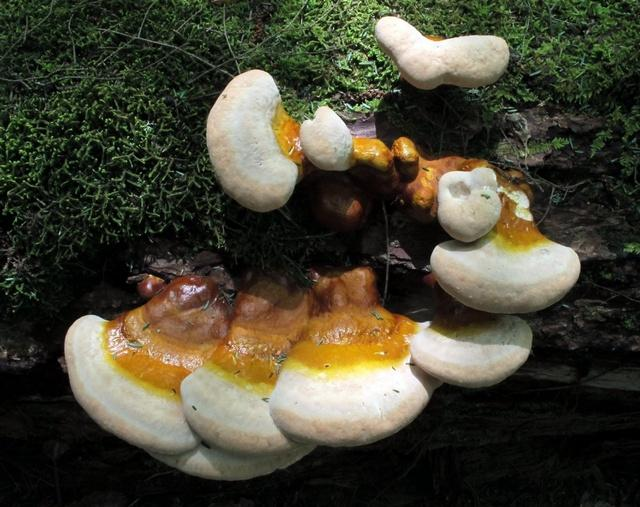poisonous_mushroom: (56, 249, 526, 470), (198, 68, 392, 209), (428, 161, 581, 314), (373, 14, 510, 90)
